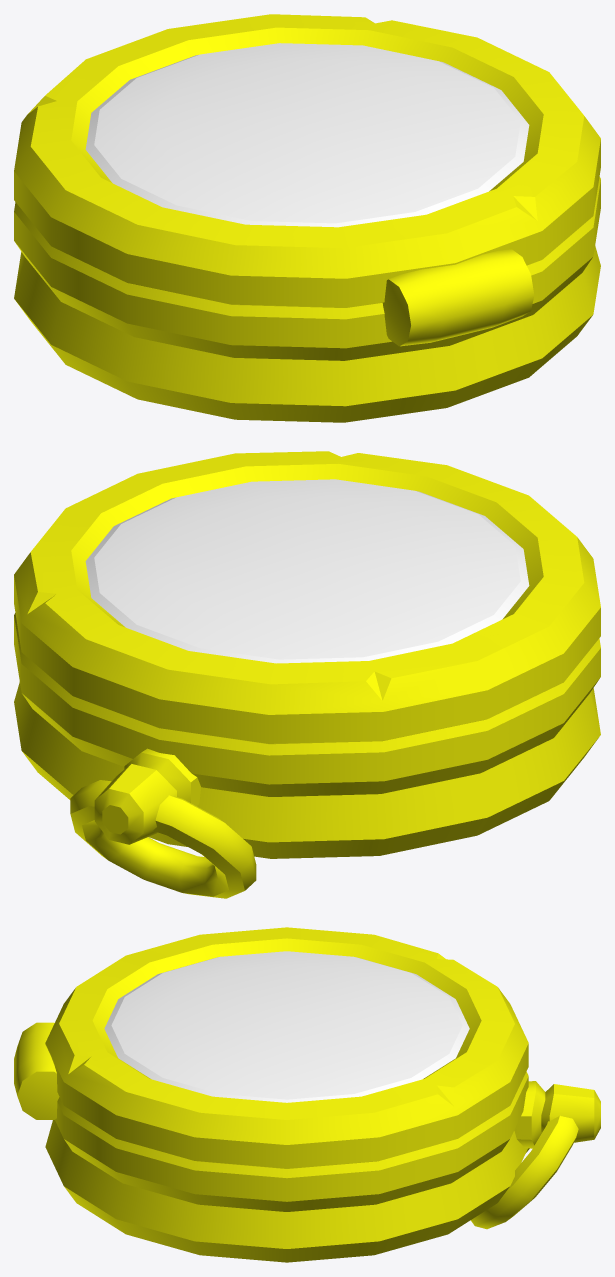
The model's file is kaykit-compass-base.glb.
3 renders of one model, top to bottom at view 1: azimuth 30°, elevation 25°; view 2: azimuth 150°, elevation 25°; view 3: azimuth 270°, elevation 25°, orthographic. The views are drawn at different scales.
Parts seen in each view (by area): view 1: compass_base, compass_lid; view 2: compass_base, compass_lid; view 3: compass_base, compass_lid.
Boxes of the visible parts, x1,y1,x2,y2 form: compass_base: (14,14,600,422); compass_lid: (85,43,529,227); compass_base: (14,451,600,898); compass_lid: (85,479,529,663); compass_base: (14,927,600,1262); compass_lid: (104,951,469,1102).
Size of the model in its own units: 0.574 by 0.2664 by 0.6971.
